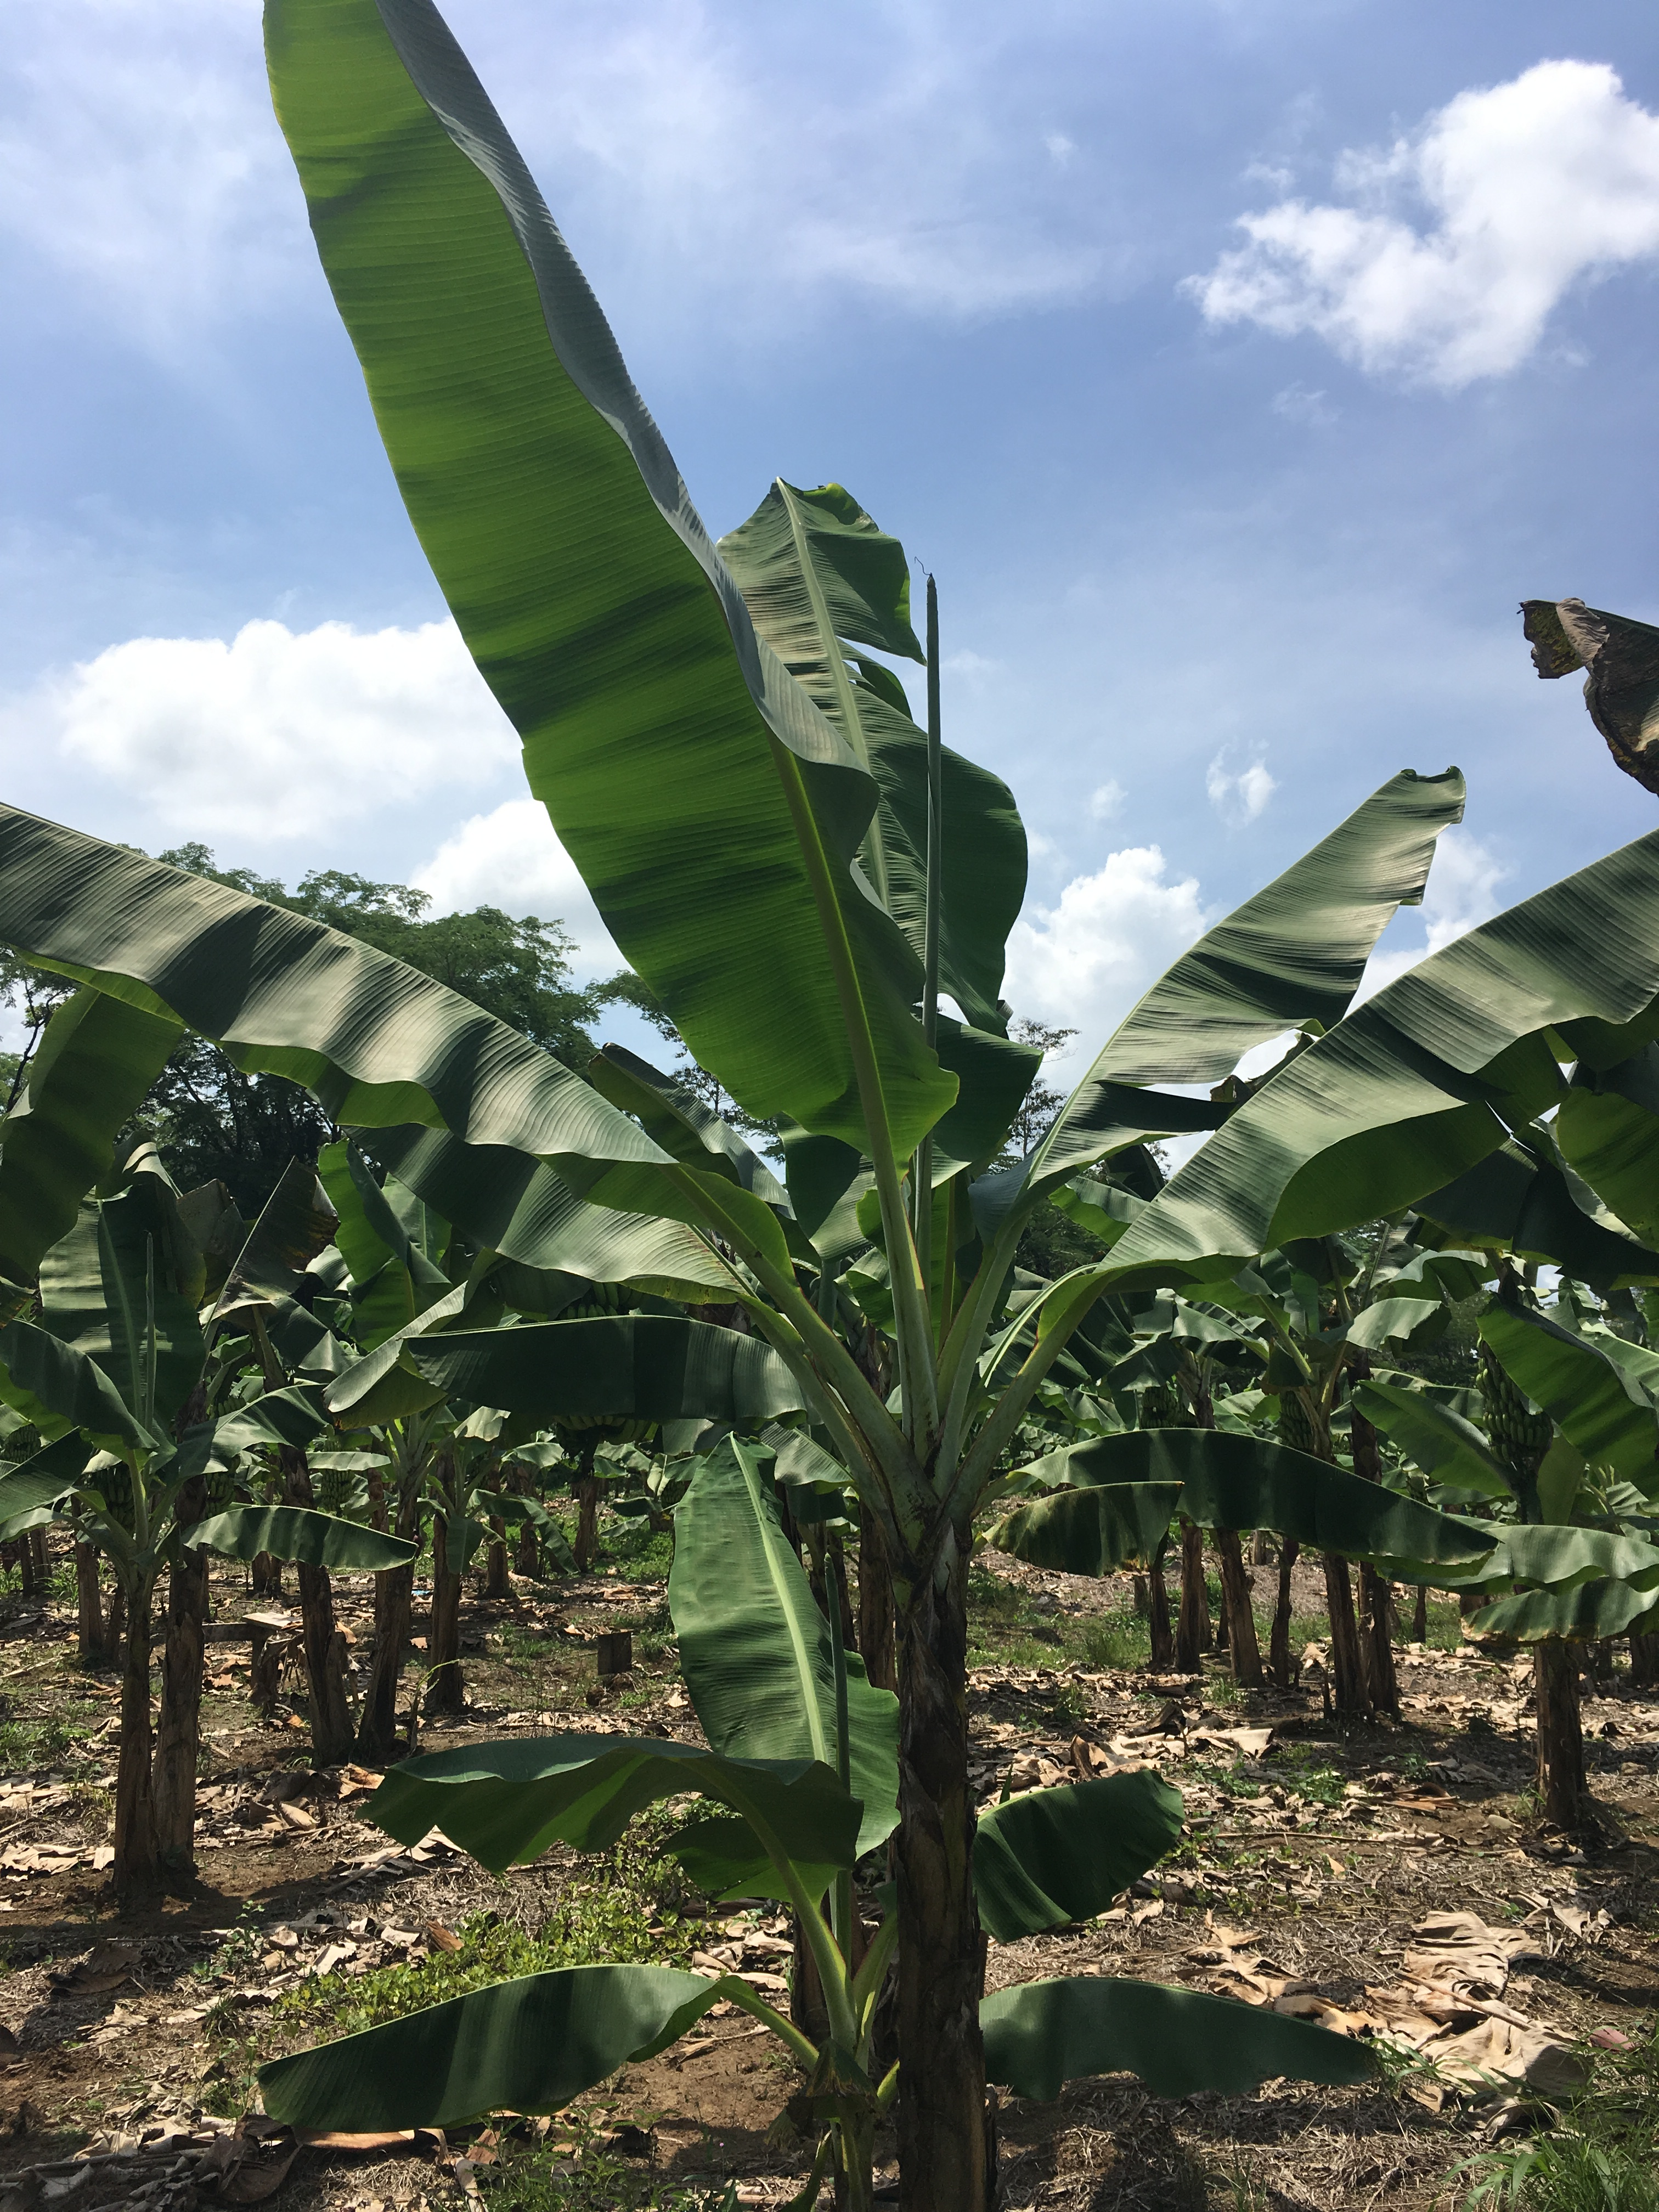candleleafs: (913, 566, 958, 1061), (816, 1547, 866, 1780), (141, 1228, 167, 1437)
